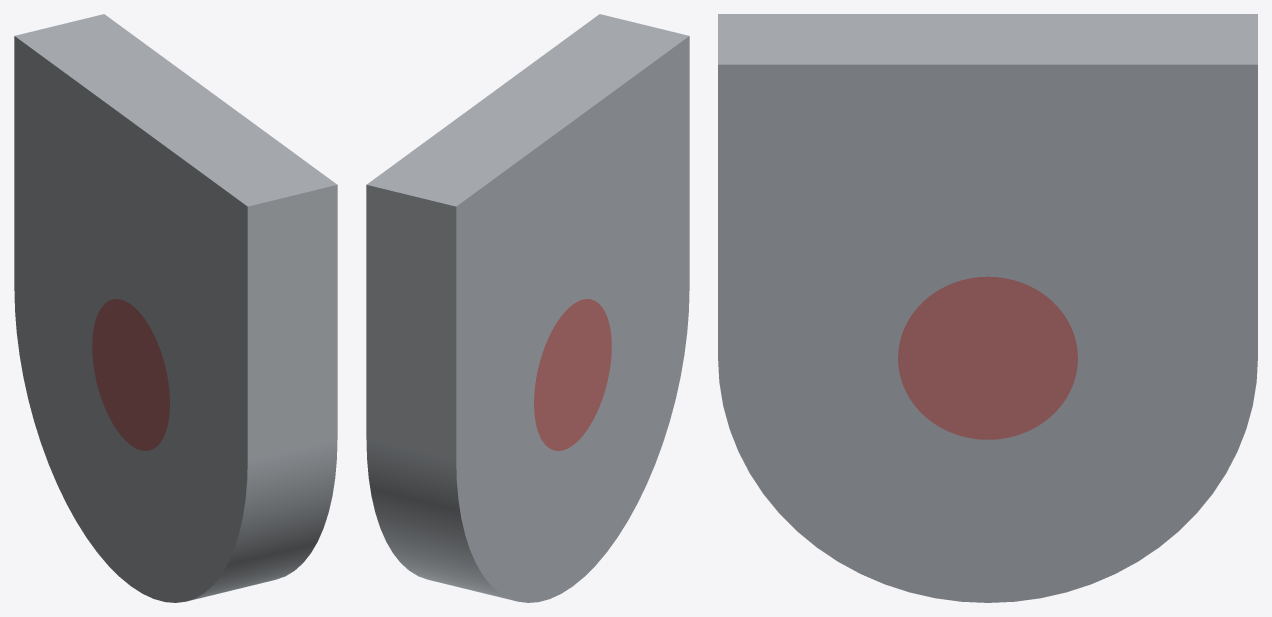
Rendered from step_02.glb.
The picture shows the model from 3 angles, left to right: view 1: azimuth 30°, elevation 25°; view 2: azimuth 150°, elevation 25°; view 3: azimuth 270°, elevation 25°; orthographic projection. The views are drawn at different scales.
Visible parts, largest first — view 1: part__mooring eye, removed__mooring eye; view 2: part__mooring eye, removed__mooring eye; view 3: part__mooring eye, removed__mooring eye.
Part boxes in pixels (x1,y1,x2,y2): part__mooring eye: (14,14,337,602); removed__mooring eye: (92,299,169,450); part__mooring eye: (366,14,689,602); removed__mooring eye: (534,299,611,450); part__mooring eye: (718,14,1257,602); removed__mooring eye: (898,276,1077,439).
Size of the model in its own units: 20 by 99 by 90.
